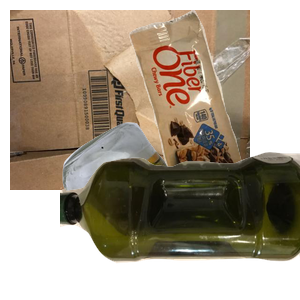cardboard: (10, 10, 250, 190)
glass: (60, 120, 300, 300)
plastic: (60, 149, 300, 300)
trash: (127, 10, 300, 190)
